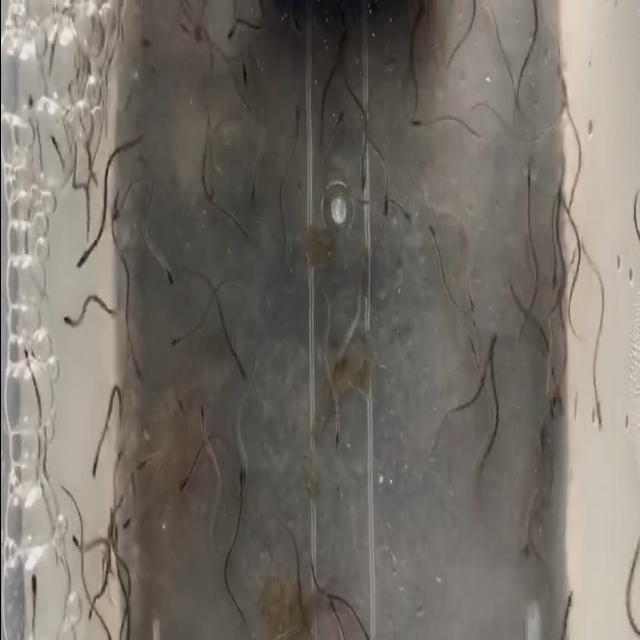active_glass_eel: (182, 400, 215, 455), (222, 346, 252, 404), (168, 307, 196, 367), (80, 414, 100, 481), (170, 459, 194, 514), (420, 204, 439, 272), (324, 410, 349, 461), (378, 176, 400, 232), (488, 308, 504, 382), (459, 308, 479, 366), (60, 307, 86, 348), (127, 436, 149, 484), (514, 157, 536, 205), (352, 158, 372, 210), (558, 584, 580, 630), (64, 240, 92, 276), (586, 384, 606, 434), (408, 102, 426, 157), (237, 172, 264, 208), (230, 458, 250, 504), (222, 20, 240, 71), (117, 505, 133, 560), (162, 241, 180, 289), (68, 509, 82, 558), (332, 104, 350, 138), (83, 600, 96, 622)
